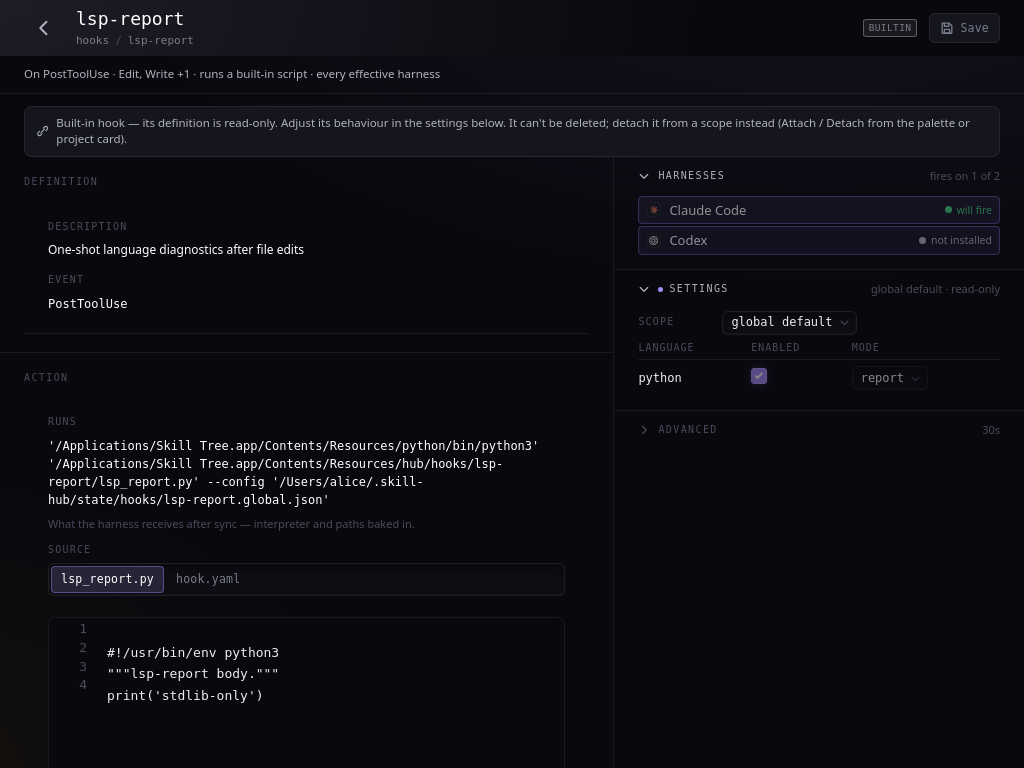
HookEditor — built-in core fields are inert everywhere › exposes no matcher or timeout INPUT — both render as summary values
The width and height of the screenshot is (1024, 768).
Expected: the text named "command" is shown, x1=48 y1=434 x2=565 y2=510
What coordinates should you click on to do the following:
click the button "Advanced"
I would click on:
 (688, 430)
Its box is x1=638 y1=411 x2=974 y2=450.
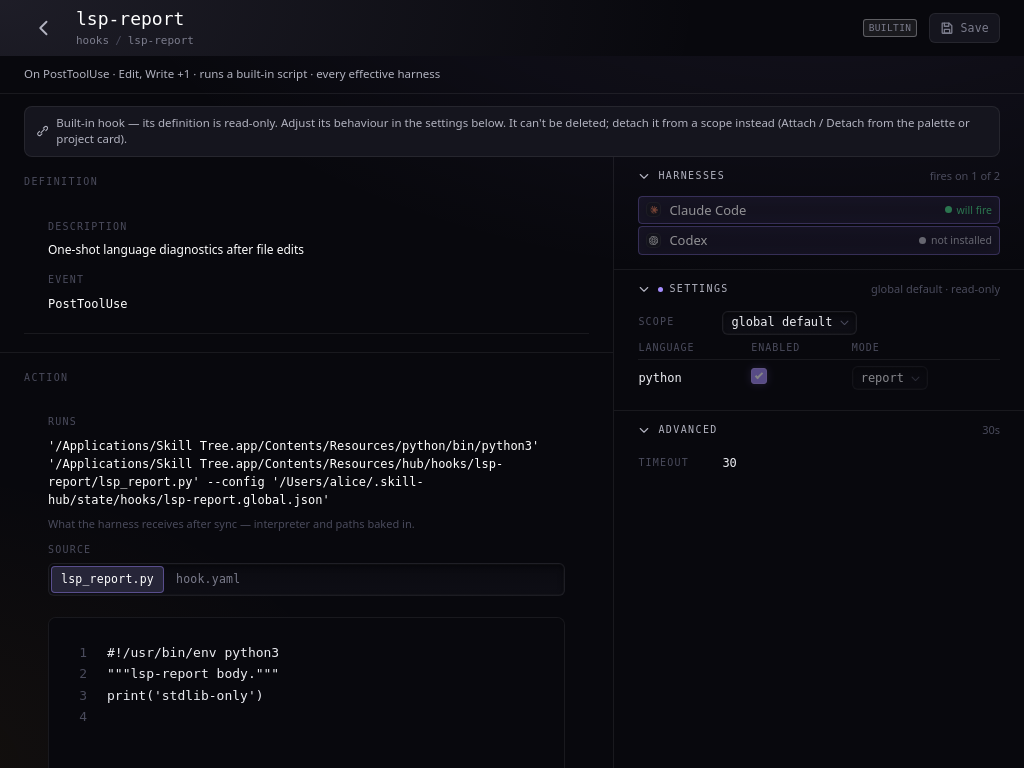
Now the text "30" is shown, box x1=722 y1=455 x2=737 y2=472
